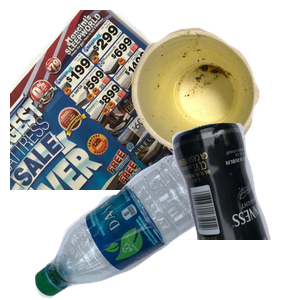glass: (106, 120, 300, 300)
paper: (10, 10, 240, 190)
plastic: (32, 154, 242, 300)
trash: (129, 25, 300, 173)
